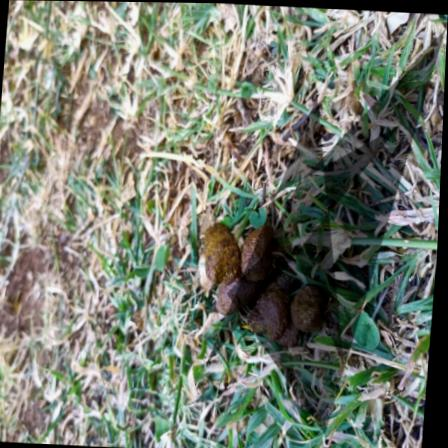dog-poop: (186, 218, 343, 361)
